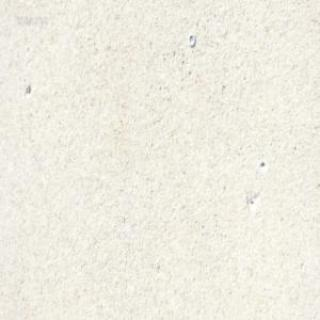Washertrack_idkeyframe: (187, 31, 195, 46)
